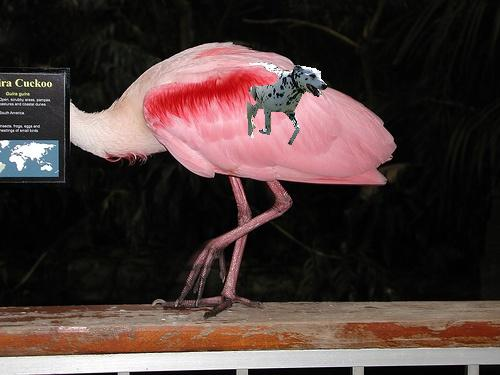tampered: (247, 63, 327, 145)
